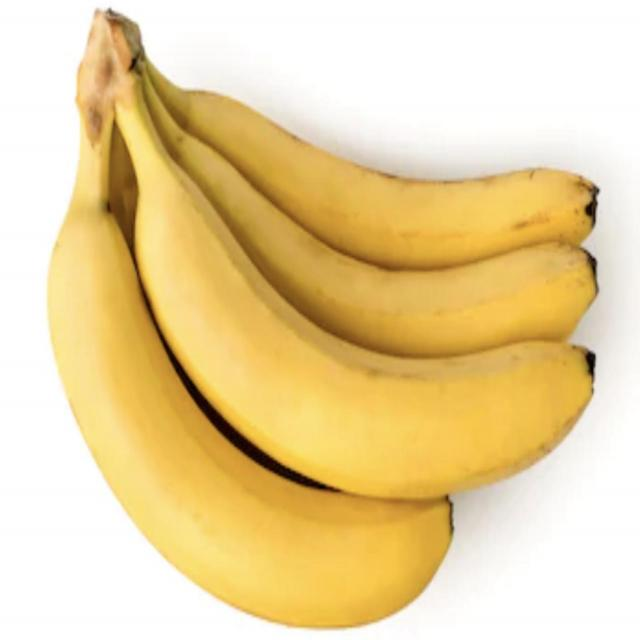banana: (103, 43, 598, 509), (34, 103, 465, 638)
